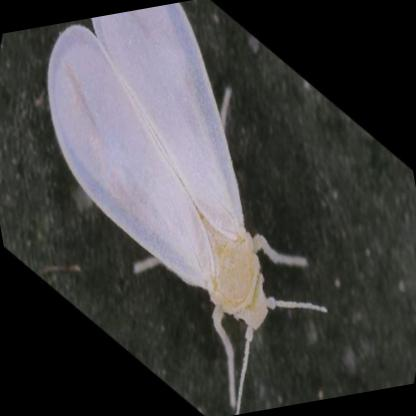whitefly: (46, 7, 271, 333)
